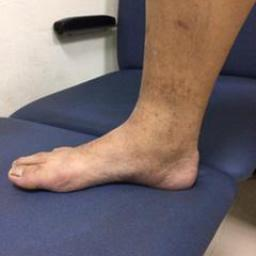Medial View -Right Foot-: (5, 75, 222, 196)
